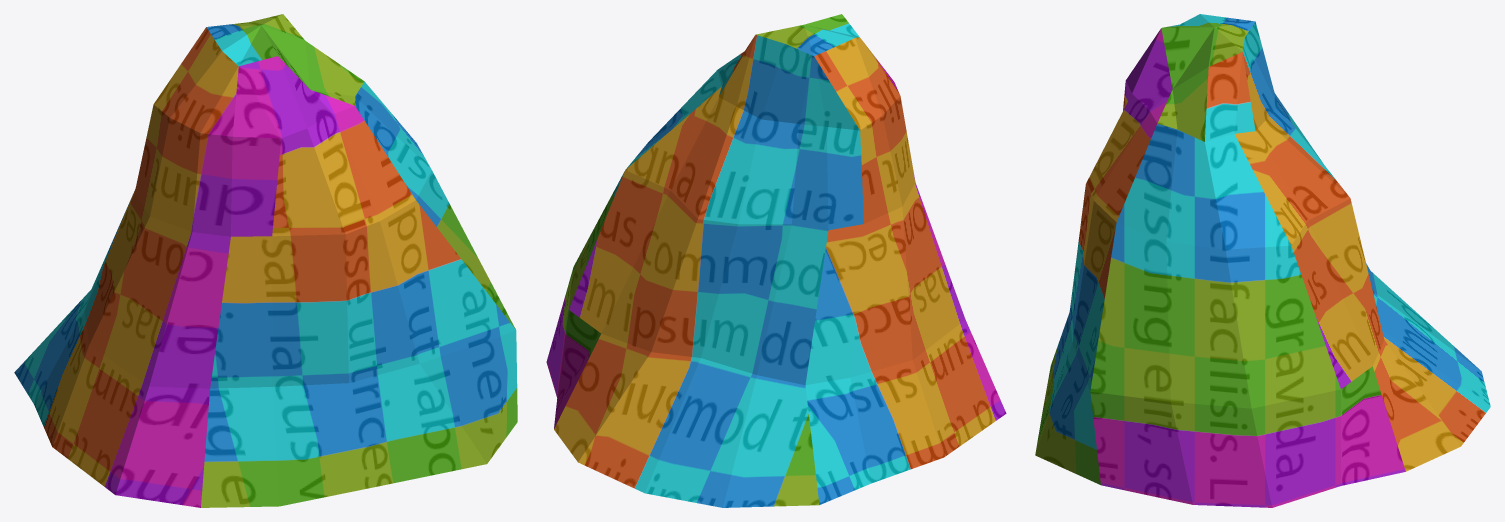
File: SM_Mountain_2.fbx
3 renders of one model, left to right at view 1: azimuth 30°, elevation 25°; view 2: azimuth 150°, elevation 25°; view 3: azimuth 270°, elevation 25°, orthographic. The views are drawn at different scales.
Parts seen in each view (by area): view 1: SM_Mountain_2; view 2: SM_Mountain_2; view 3: SM_Mountain_2.
Boxes of the visible parts, box(x1,y1,x2,y2) form: SM_Mountain_2: box(14, 14, 517, 507); SM_Mountain_2: box(546, 14, 1006, 507); SM_Mountain_2: box(1035, 14, 1490, 507).
Bounding box in the file's own units: 104 × 93.15 × 104.
Materials: 1 (1 with a texture image).
